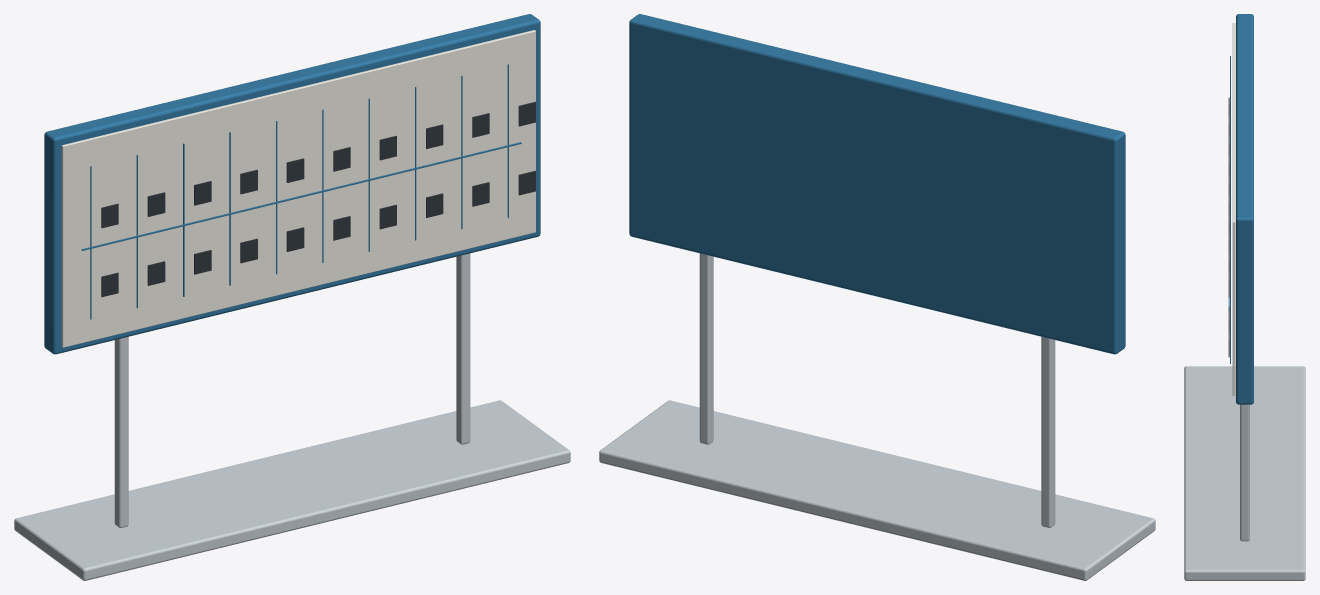
Rendered from curling-club-and-ice-maintenance-end-scoreboard-2dadce1d__31281.glb.
3 renders of one model, left to right at view 1: azimuth 30°, elevation 25°; view 2: azimuth 150°, elevation 25°; view 3: azimuth 270°, elevation 25°, orthographic. The views are drawn at different scales.
Visible parts, largest first — view 1: end-scoreboard; view 2: end-scoreboard; view 3: end-scoreboard.
Boxes of the visible parts, x1,y1,x2,y2 form: end-scoreboard: [14, 14, 570, 580]; end-scoreboard: [599, 14, 1155, 580]; end-scoreboard: [1184, 14, 1305, 580].
Size of the model in its own units: 2 by 1.65 by 0.5001.
